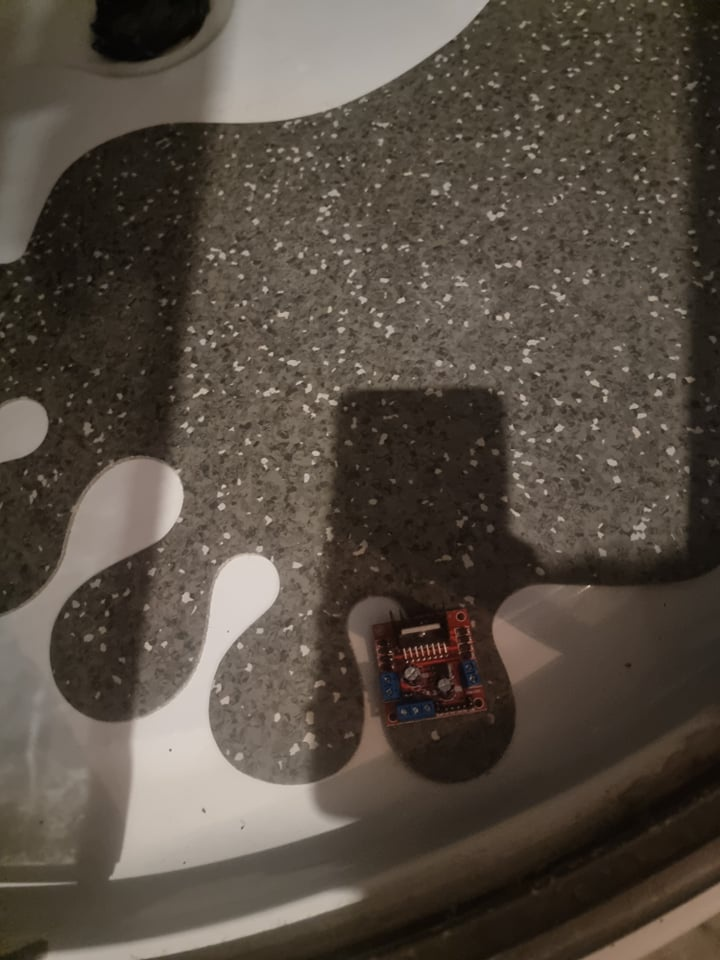MOTOR: (370, 602, 491, 729)
